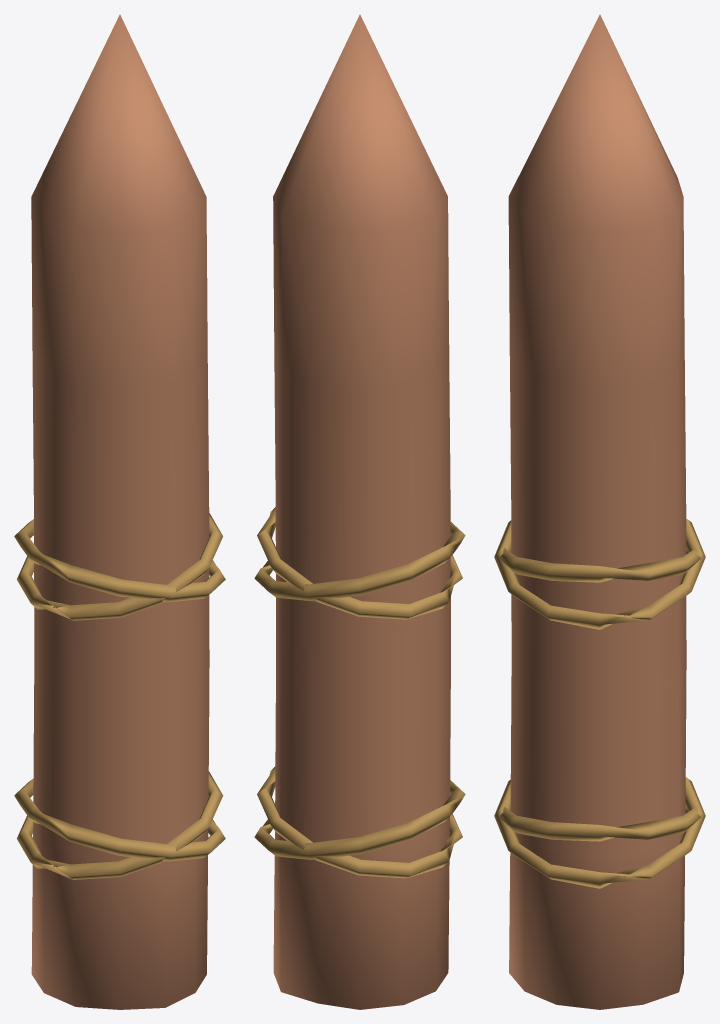
The model's file is gate_post.obj.
3 views of the same model, side by side, from view 1: azimuth 30°, elevation 25°; view 2: azimuth 150°, elevation 25°; view 3: azimuth 270°, elevation 25° (orthographic).
Parts seen in each view (by area): view 1: gate_post; view 2: gate_post; view 3: gate_post.
Part boxes in pixels (bbox=[...]): gate_post: bbox=[14, 14, 225, 1009]; gate_post: bbox=[254, 14, 465, 1009]; gate_post: bbox=[494, 14, 705, 1009].
Size of the model in its own units: 0.43 by 2.15 by 0.43.
